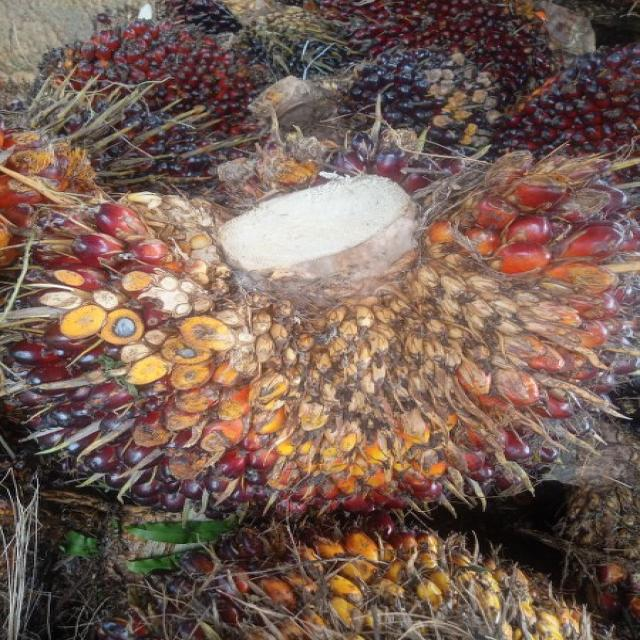fraksi 1: (0, 125, 634, 535)
